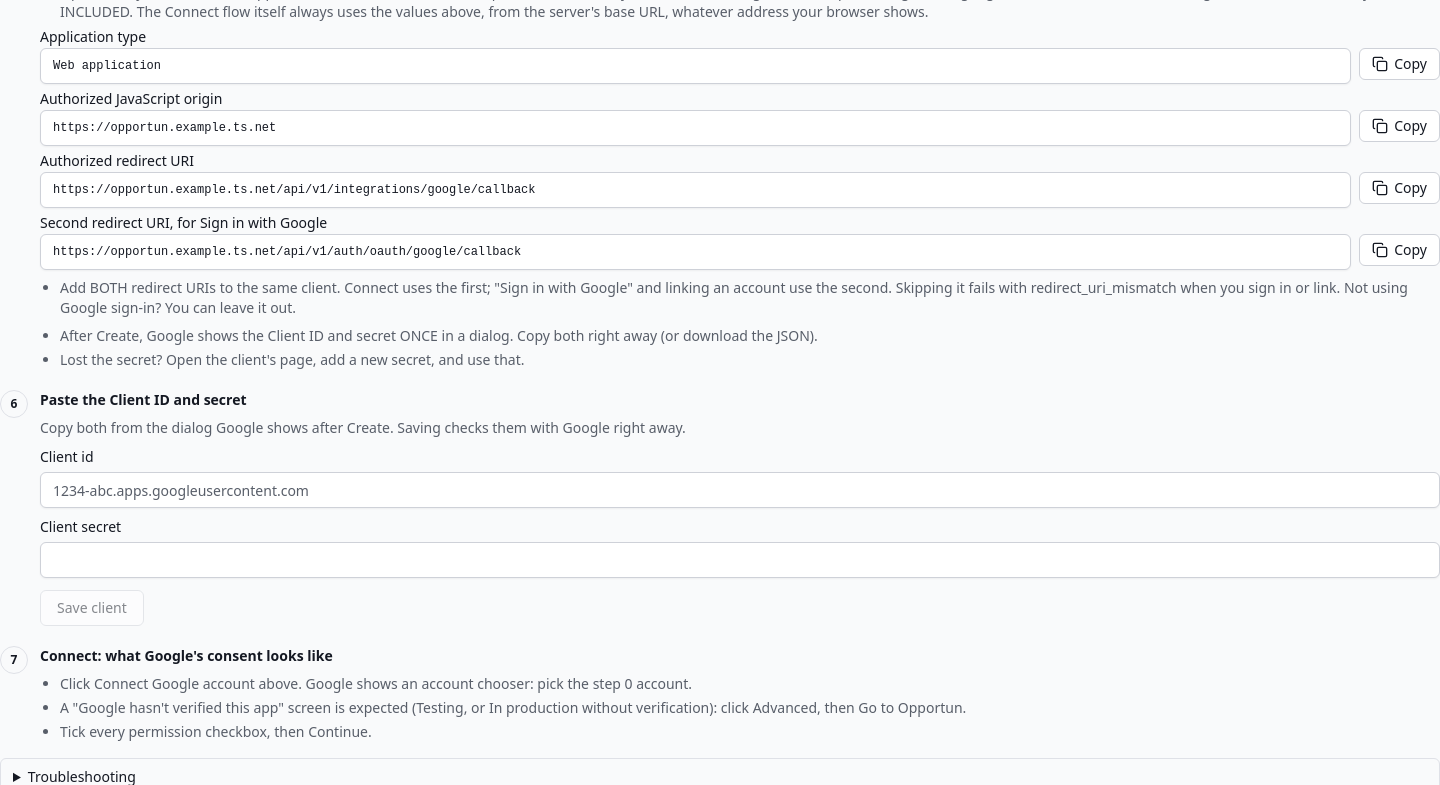
Test case: GoogleSetupGuide › save shows Invalid in red with the error and the proposed fix
The width and height of the screenshot is (1440, 785).
(page scrolled)
In the field labelled "Client id": [740, 490] box x1=40 y1=472 x2=1439 y2=508, type "x.apps.googleusercontent.com"
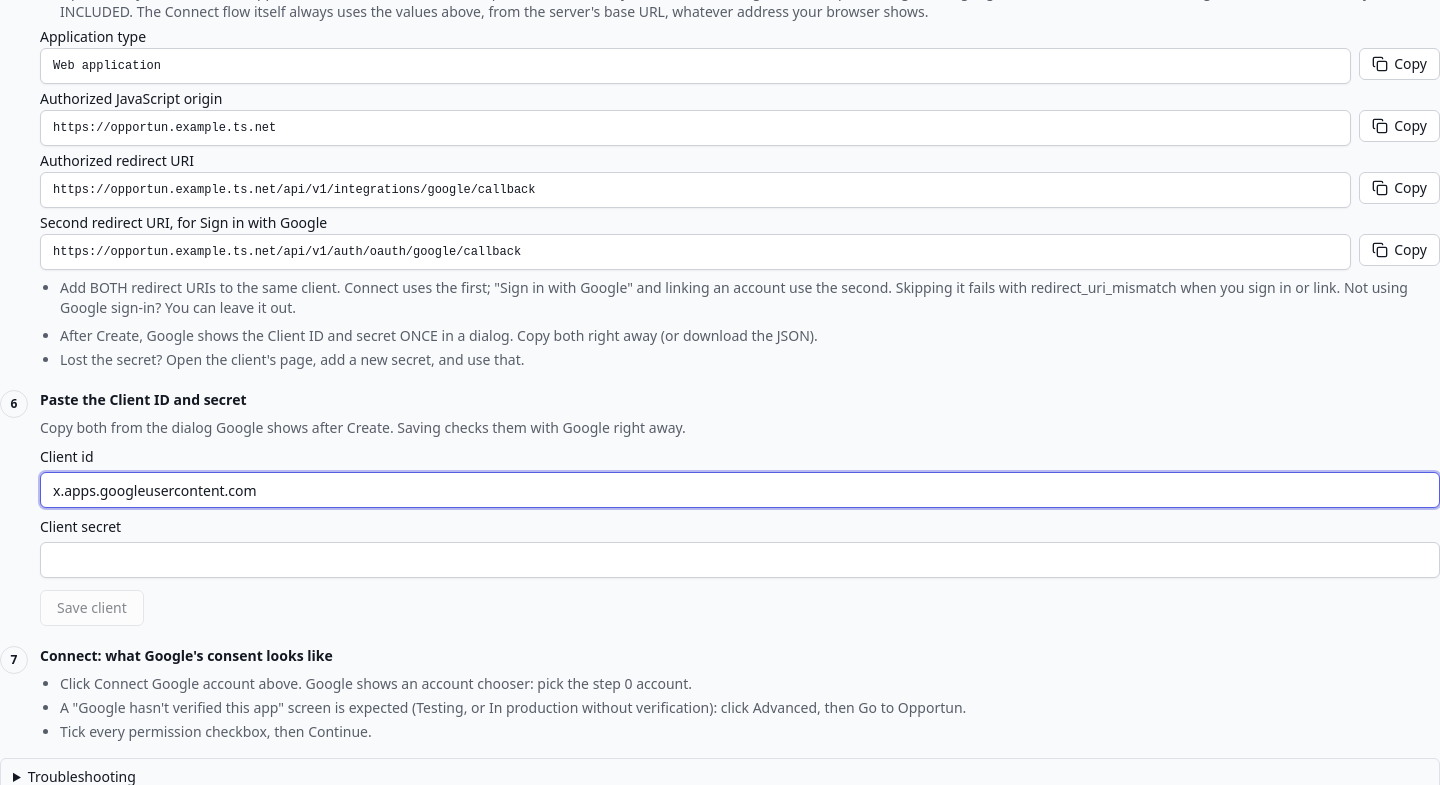
In the password field labelled "Client secret": [740, 560] box x1=40 y1=542 x2=1439 y2=578, type "GOCSPX-abc"
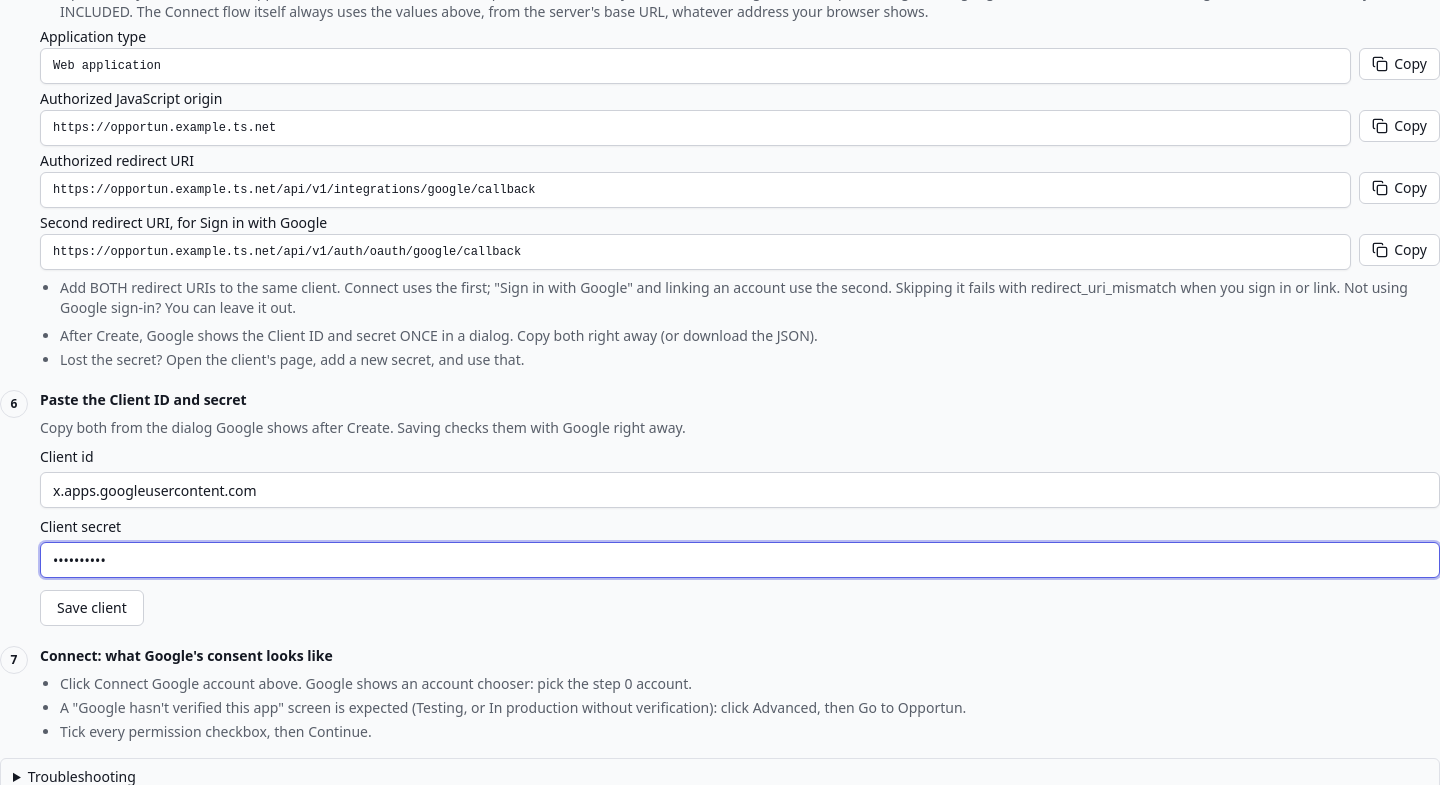
Click the button "Save client": [92, 608] box x1=40 y1=590 x2=144 y2=626
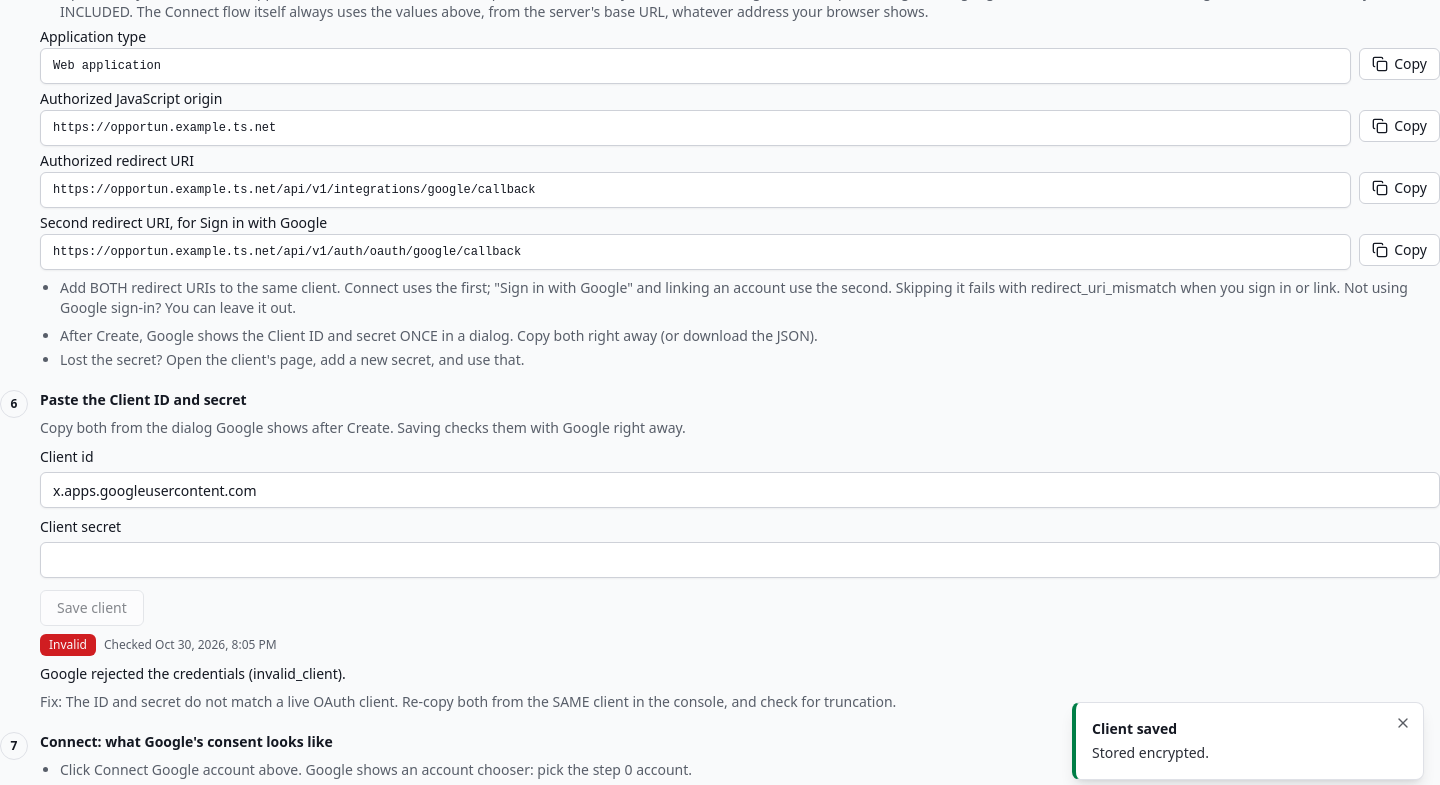
Expected: the text "Google rejected the credentials (invalid_client)." is shown, x1=40 y1=664 x2=346 y2=683
